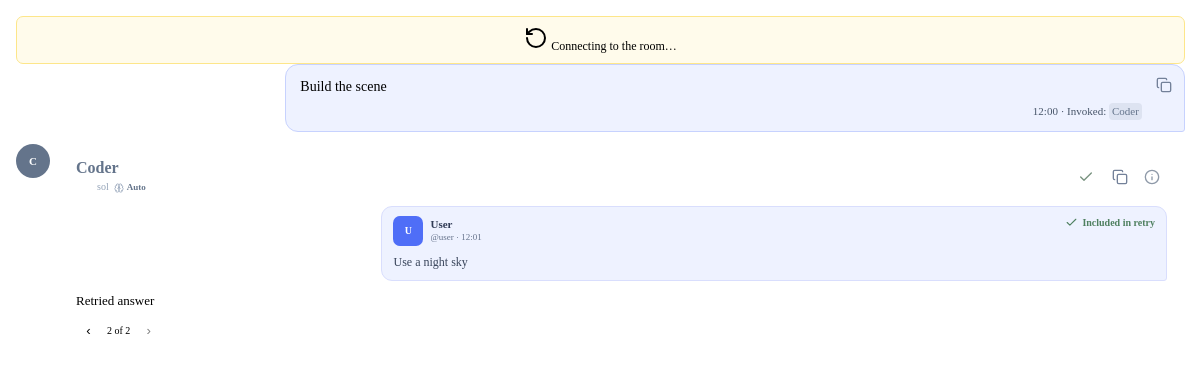
Timeline run details › shows replayed instructions before the retry response without relabeling the original attempt
Expected: the message reads "Included in retry", 1082,217 -> 1155,228
Expected: the text "Original partial answer" is not shown
What coordinates should you click on to do the following:
click the button named "Previous attempt"
I would click on:
 (88, 330)
Its box is 76,318 -> 101,343.
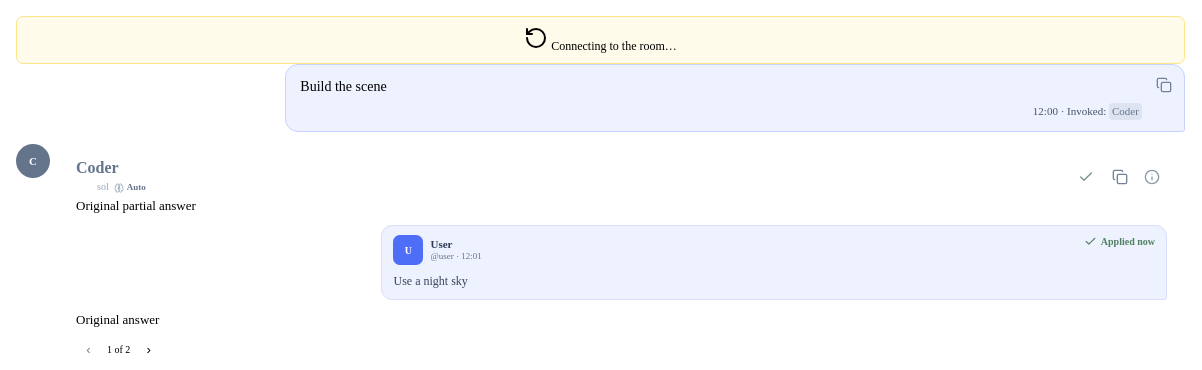
Expected: the message reads "Applied now", 1101,236 -> 1155,247
